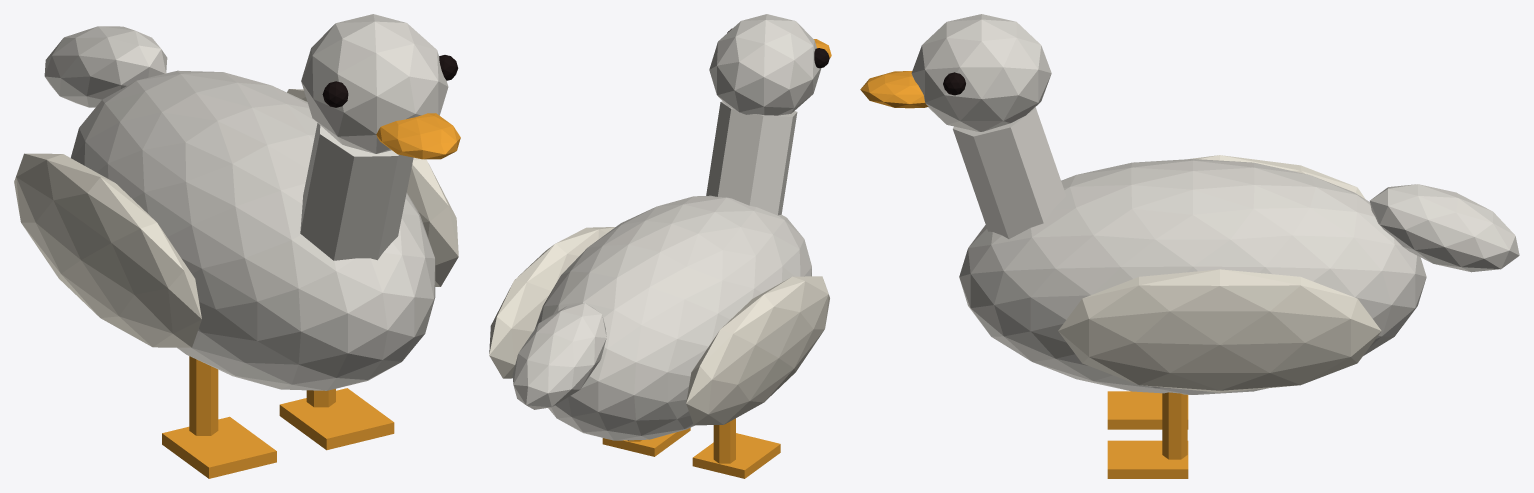
Rendered from duck.glb.
3 views of the same model, side by side, from view 1: azimuth 30°, elevation 25°; view 2: azimuth 150°, elevation 25°; view 3: azimuth 270°, elevation 25° (orthographic). The views are drawn at different scales.
Parts seen in each view (by area): view 1: body, wing_R_mesh, skull, neck, tail, leg_L_foot, leg_R_foot, wing_L_mesh, bill, leg_R_shaft, eye_1, leg_L_shaft; view 2: body, wing_R_mesh, skull, neck, tail, wing_L_mesh, leg_R_foot, leg_L_foot, leg_R_shaft; view 3: body, wing_L_mesh, skull, neck, tail, leg_L_foot, leg_R_foot, bill, leg_L_shaft, wing_R_mesh.
Part boxes in pixels (x1,y1,x2,y2): body: (71, 70, 435, 390); wing_R_mesh: (14, 153, 201, 347); skull: (301, 14, 448, 153); neck: (300, 123, 413, 260); tail: (44, 26, 167, 107); leg_L_foot: (279, 388, 394, 450); leg_R_foot: (162, 416, 276, 478); wing_L_mesh: (287, 89, 458, 286); bill: (376, 113, 460, 159); leg_R_shaft: (189, 356, 218, 435); eye_1: (322, 81, 348, 107); leg_L_shaft: (306, 389, 335, 407); body: (535, 195, 811, 440); wing_R_mesh: (686, 276, 829, 425); skull: (709, 14, 821, 115); neck: (706, 101, 797, 215); tail: (512, 303, 606, 409); wing_L_mesh: (489, 227, 615, 378); leg_R_foot: (692, 433, 780, 478); leg_L_foot: (602, 428, 690, 456); leg_R_shaft: (713, 418, 735, 463); body: (959, 159, 1426, 394); wing_L_mesh: (1058, 269, 1381, 392); skull: (911, 14, 1051, 131); neck: (953, 107, 1066, 238); tail: (1370, 184, 1519, 272); leg_L_foot: (1107, 440, 1188, 478); leg_R_foot: (1107, 391, 1188, 429); bill: (860, 71, 928, 108); leg_L_shaft: (1162, 392, 1187, 459); wing_R_mesh: (1188, 155, 1364, 198).
Size of the model in its own units: 0.3437 by 0.516 by 0.7334.
